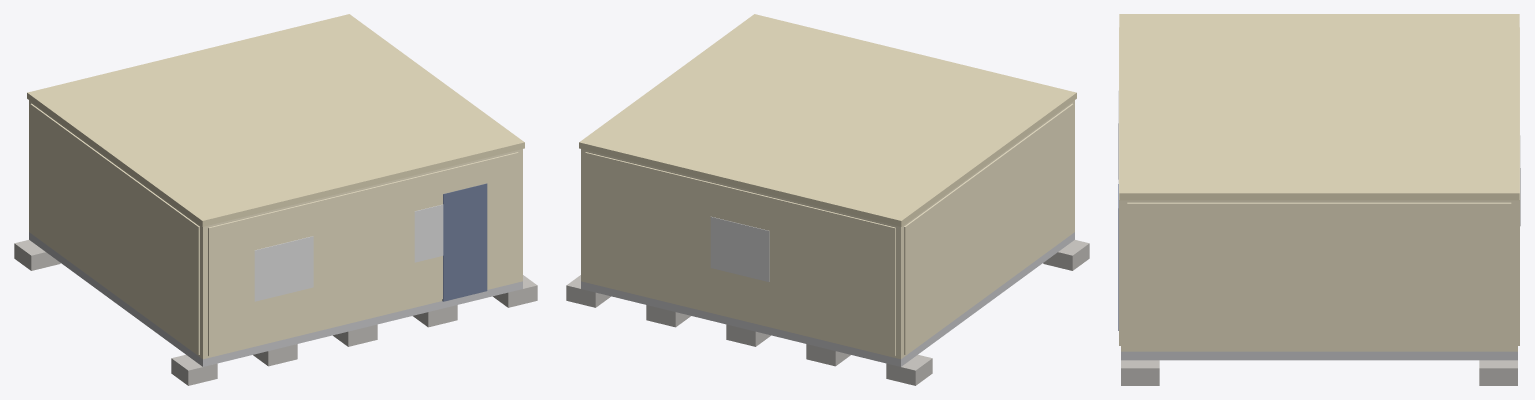
File: Studio-20-Base-RiceYellow-LOD2.glb
3 views of the same model, side by side, from view 1: azimuth 30°, elevation 25°; view 2: azimuth 150°, elevation 25°; view 3: azimuth 270°, elevation 25° (orthographic). The views are drawn at different scales.
Parts seen in each view (by area): view 1: RoofMain, ExteriorPanelsStandard, EntryDoor, WindowsStandard, FoundationBlocks, ExteriorShell, BaseFrame; view 2: ExteriorPanelsStandard, RoofMain, FoundationBlocks, BaseFrame, ExteriorShell, WindowsStandard; view 3: RoofMain, ExteriorPanelsStandard, ExteriorShell, BaseFrame, FoundationBlocks.
Part boxes in pixels (box(x1,y1,x2,y2)): RoofMain: box(27, 14, 524, 226); ExteriorPanelsStandard: box(30, 103, 518, 355); EntryDoor: box(442, 183, 487, 301); WindowsStandard: box(254, 204, 443, 301); FoundationBlocks: box(14, 240, 537, 385); ExteriorShell: box(29, 100, 522, 359); BaseFrame: box(29, 232, 522, 366); ExteriorPanelsStandard: box(585, 103, 1073, 355); RoofMain: box(579, 14, 1076, 226); FoundationBlocks: box(566, 240, 1089, 385); BaseFrame: box(581, 232, 1074, 366); ExteriorShell: box(581, 100, 1074, 359); WindowsStandard: box(710, 216, 769, 281); RoofMain: box(1119, 14, 1519, 200); ExteriorPanelsStandard: box(1119, 27, 1519, 349); ExteriorShell: box(1121, 200, 1517, 351); BaseFrame: box(1121, 351, 1517, 360); FoundationBlocks: box(1121, 360, 1517, 385).
Size of the model in its own units: 7.14 by 3.17 by 6.24.
